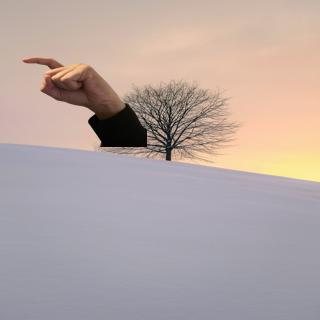WHY: (15, 52, 121, 113)
